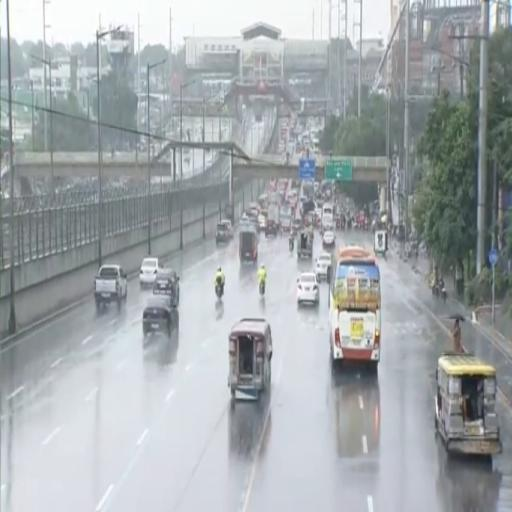bus: (330, 247, 381, 370), (333, 377, 380, 458)
car: (143, 295, 173, 337), (153, 269, 179, 308), (297, 272, 319, 306), (140, 258, 160, 286), (316, 252, 331, 281), (216, 220, 232, 245), (322, 231, 335, 249), (265, 220, 278, 236), (258, 215, 266, 231)
jeepney: (435, 352, 501, 455)
motorcycle: (431, 284, 440, 298), (216, 283, 223, 299), (259, 280, 265, 296), (442, 286, 447, 302), (289, 239, 294, 253)
truck: (94, 265, 127, 310), (297, 230, 313, 259), (266, 203, 279, 234)
